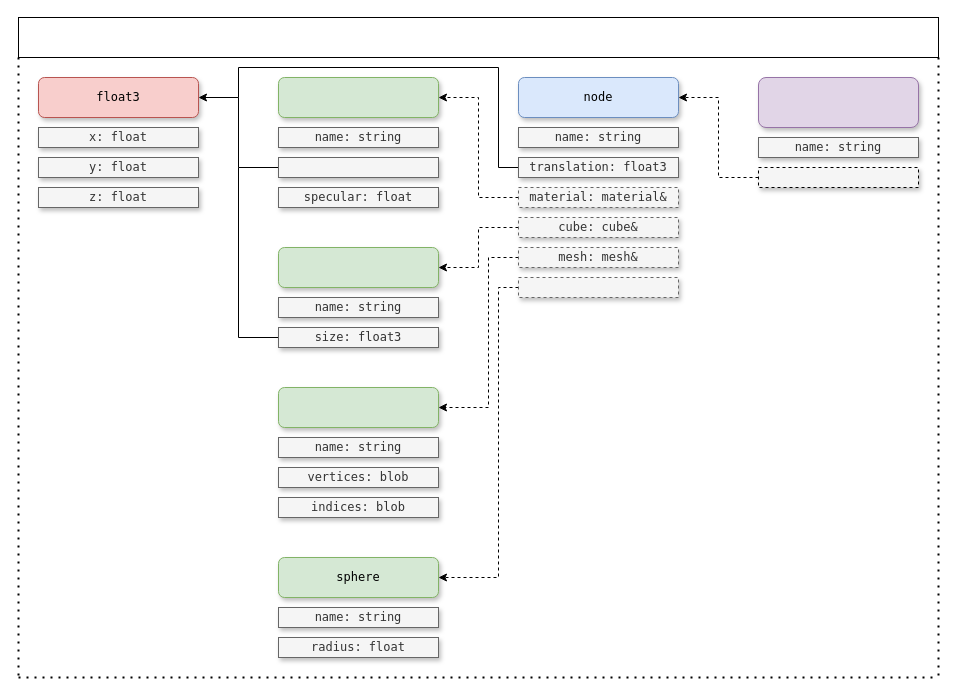
Some shapes in this 958 by 697 pixel diagram are drawn without their labels. The centre of each missing label's shape, as x and y in pixels:
"color: float3" goes at [359,168].
"cube" goes at [359,268].
"main" goes at [478,37].
"material" goes at [359,98].
"mesh" goes at [359,408].
"nodes: node[]" goes at [839,178].
"scene" goes at [839,103].
"sphere: sphere&" goes at [599,288].
